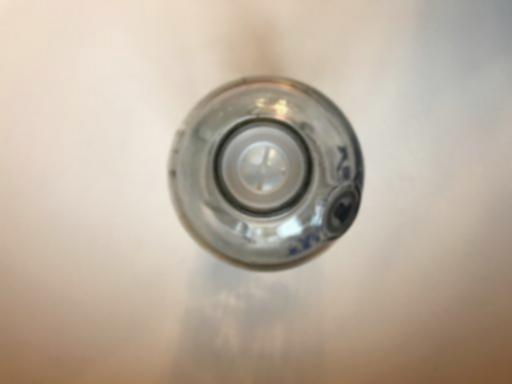alcohol: (165, 77, 365, 274)
glass: (165, 77, 365, 274)
sodocalcique: (165, 77, 365, 274)
